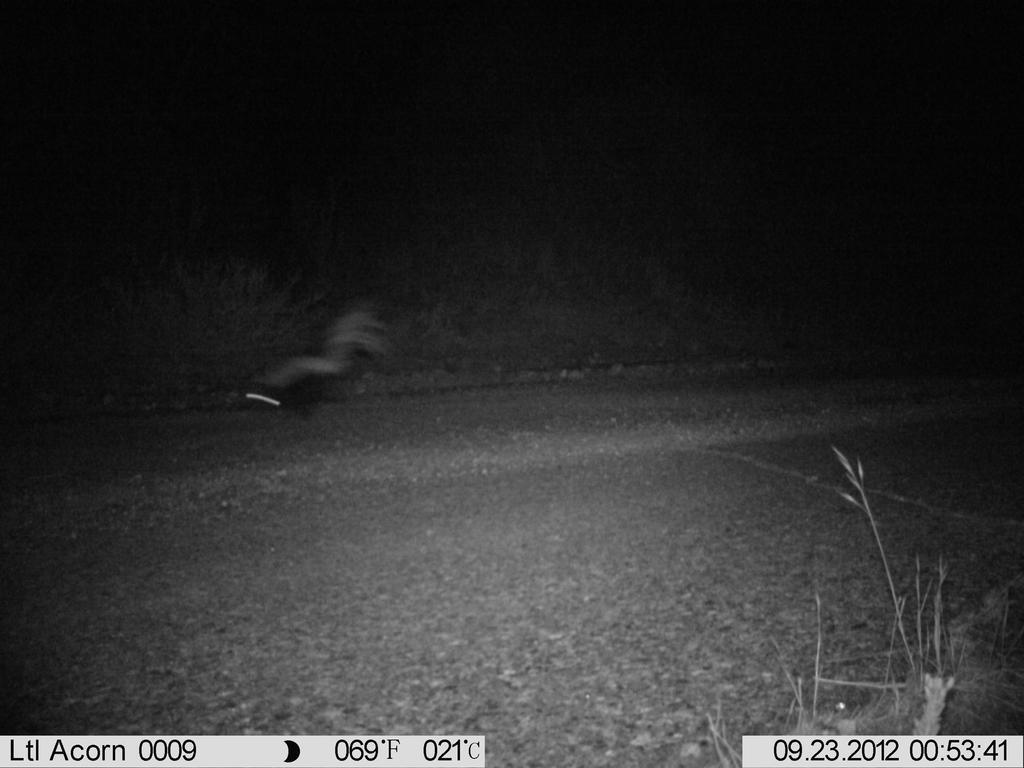skunk: (235, 301, 395, 431)
